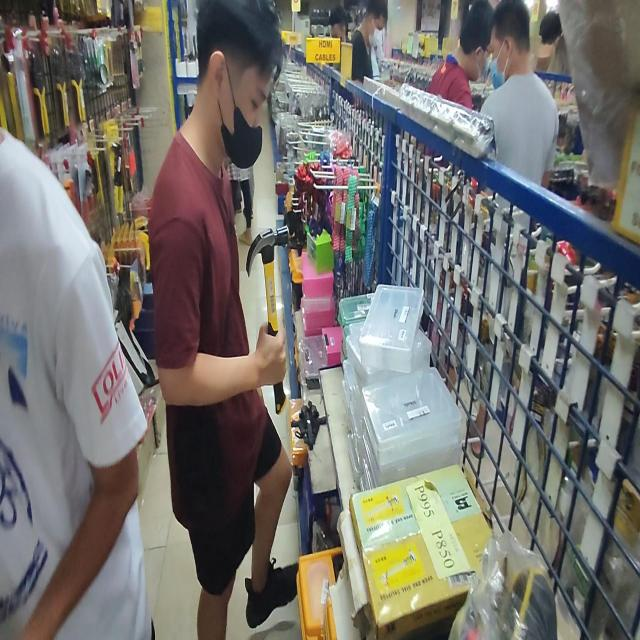hammer: (246, 224, 290, 413)
